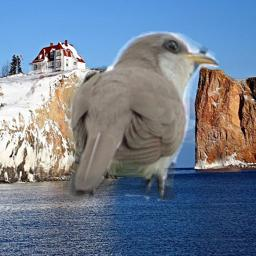Cuckoo: (63, 31, 219, 201)
